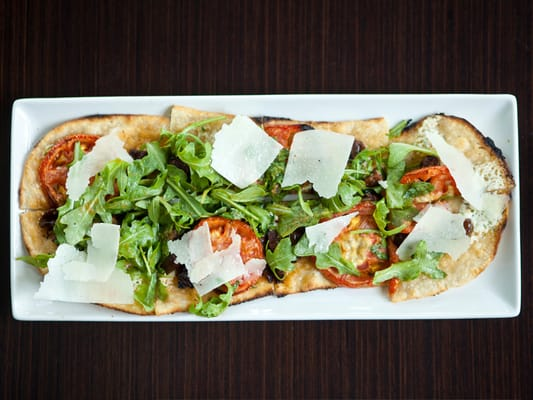curry: (7, 2, 515, 319)
sandwich: (13, 107, 521, 319)
